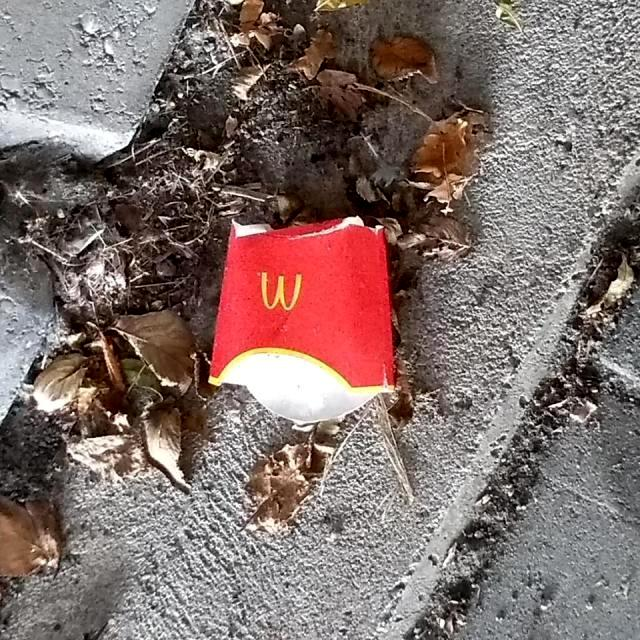Paper: (206, 211, 398, 427)
